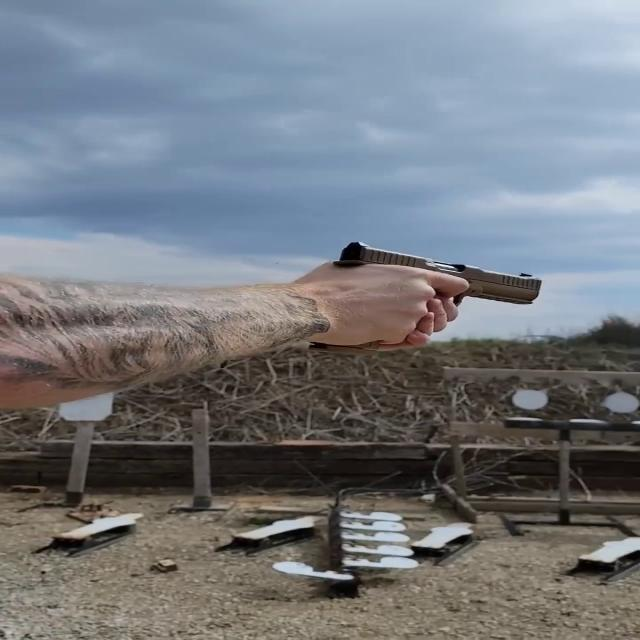Handgun: (306, 240, 552, 352)
